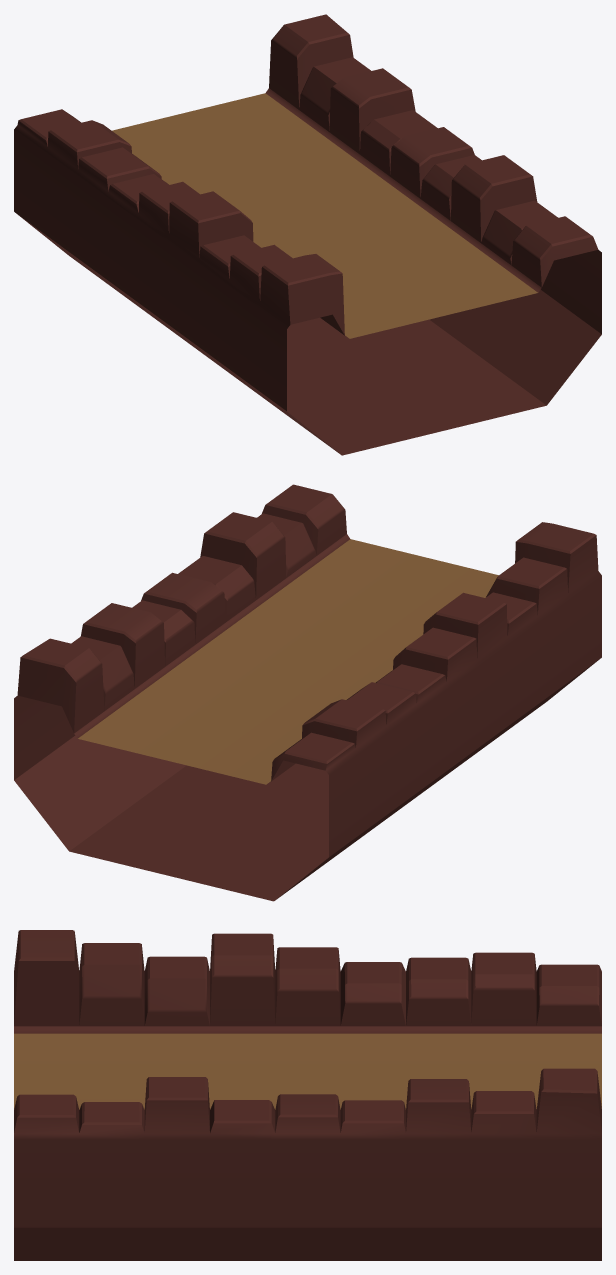
Rendered from SM_bridge_middle.fbx.
3 renders of one model, top to bottom at view 1: azimuth 30°, elevation 25°; view 2: azimuth 150°, elevation 25°; view 3: azimuth 270°, elevation 25°, orthographic. The views are drawn at different scales.
Parts seen in each view (by area): view 1: pCube39; view 2: pCube39; view 3: pCube39.
Part boxes in pixels (bbox=[...]): pCube39: bbox=[14, 14, 601, 455]; pCube39: bbox=[14, 484, 601, 901]; pCube39: bbox=[14, 930, 601, 1260].
Bounding box in the file's own units: 400 × 222 × 600.
